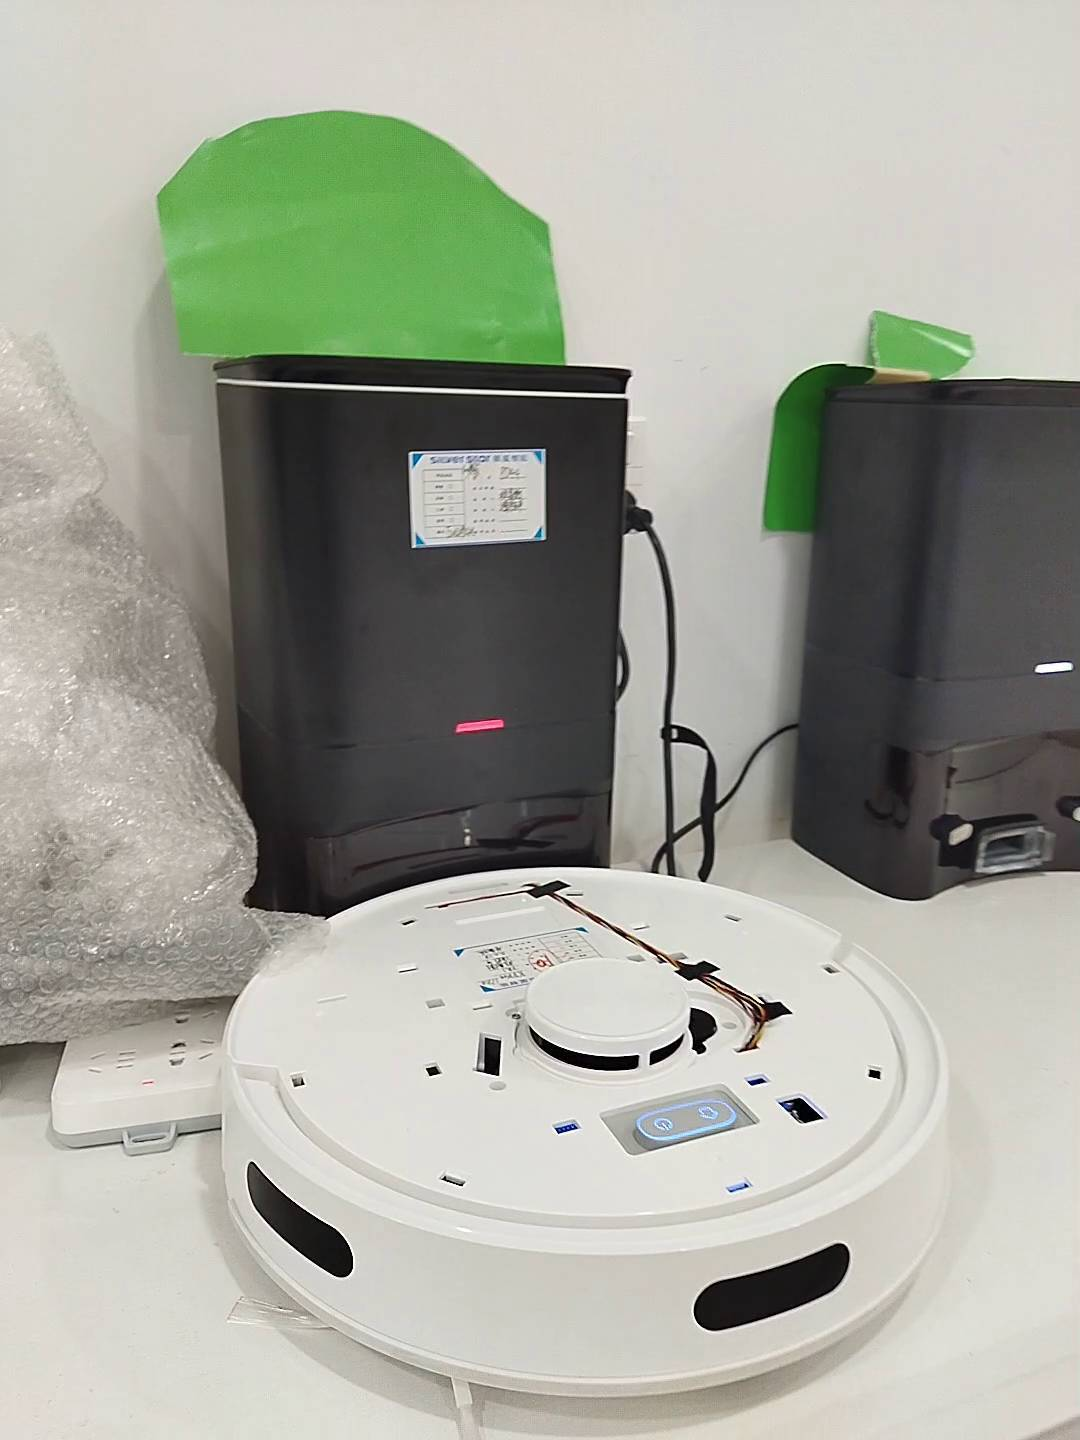dust collecting barrel: (206, 356, 631, 913), (790, 379, 1080, 900)
